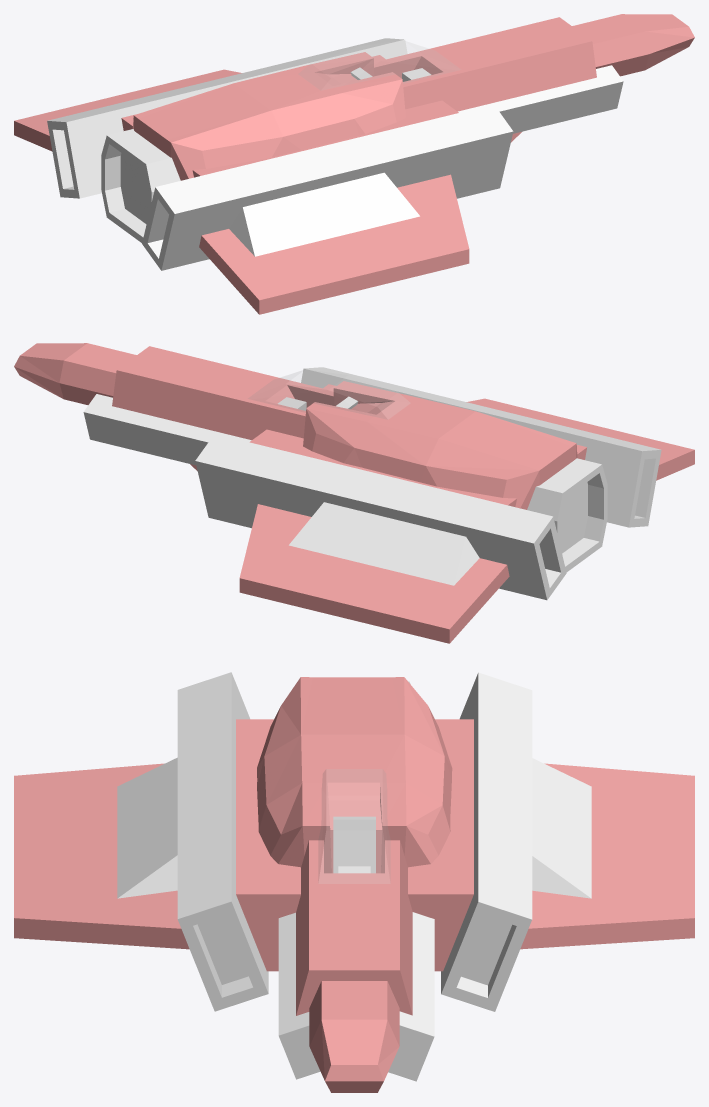
The model's file is spaceship.glb.
The picture shows the model from 3 angles, top to bottom: view 1: azimuth 30°, elevation 25°; view 2: azimuth 150°, elevation 25°; view 3: azimuth 270°, elevation 25°; orthographic projection. The views are drawn at different scales.
Parts seen in each view (by area): view 1: spaceship_0_, detail, glass; view 2: spaceship_0_, detail, glass; view 3: spaceship_0_, detail, glass.
Boxes of the visible parts, bbox=[...] form: spaceship_0_: bbox=[14, 14, 694, 314]; detail: bbox=[47, 38, 623, 270]; glass: bbox=[299, 41, 460, 89]; spaceship_0_: bbox=[14, 343, 694, 643]; detail: bbox=[83, 367, 661, 600]; glass: bbox=[248, 370, 409, 418]; spaceship_0_: bbox=[14, 677, 694, 1092]; detail: bbox=[117, 672, 591, 1081]; glass: bbox=[319, 769, 389, 883].
Size of the model in its own units: 23.73 by 5.19 by 17.59.
